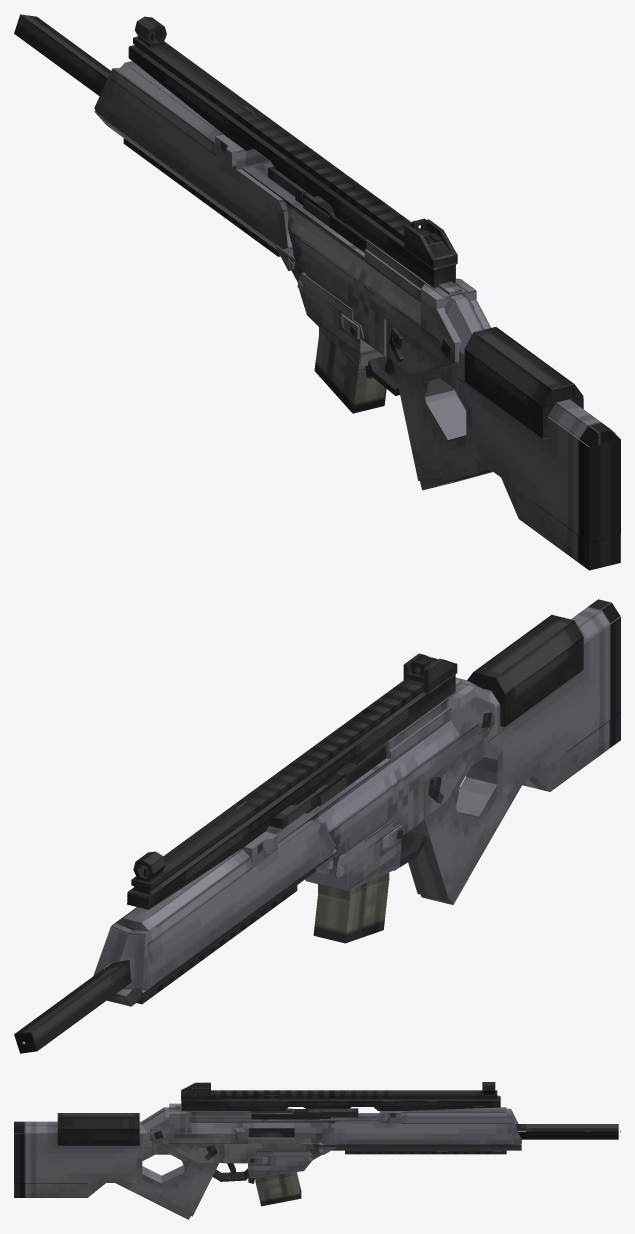
3 views of the same model, one above another, from view 1: azimuth 30°, elevation 25°; view 2: azimuth 150°, elevation 25°; view 3: azimuth 270°, elevation 25° (orthographic). The views are drawn at different scales.
Visible parts, largest first — view 1: gun, magazine, bolt, underrail; view 2: gun, magazine, bolt, underrail, bolt2; view 3: gun, magazine, underrail, bolt, action, bolt2.
Part boxes in pixels (x1=…): gun: x1=14, y1=14, x2=620, y2=570; magazine: x1=314, y1=327, x2=386, y2=413; bolt: x1=295, y1=192, x2=366, y2=252; underrail: x1=123, y1=138, x2=280, y2=256; gun: x1=14, y1=599, x2=620, y2=1053; magazine: x1=313, y1=872, x2=389, y2=943; bolt: x1=305, y1=745, x2=386, y2=813; underrail: x1=136, y1=885, x2=297, y2=1004; bolt2: x1=268, y1=793, x2=316, y2=828; gun: x1=14, y1=1082, x2=618, y2=1219; magazine: x1=255, y1=1172, x2=301, y2=1206; underrail: x1=345, y1=1150, x2=506, y2=1154; bolt: x1=249, y1=1108, x2=330, y2=1121; action: x1=248, y1=1128, x2=294, y2=1137; bolt2: x1=322, y1=1108, x2=358, y2=1117.
Bounding box in the file's own units: 40.24 × 168 × 694.
